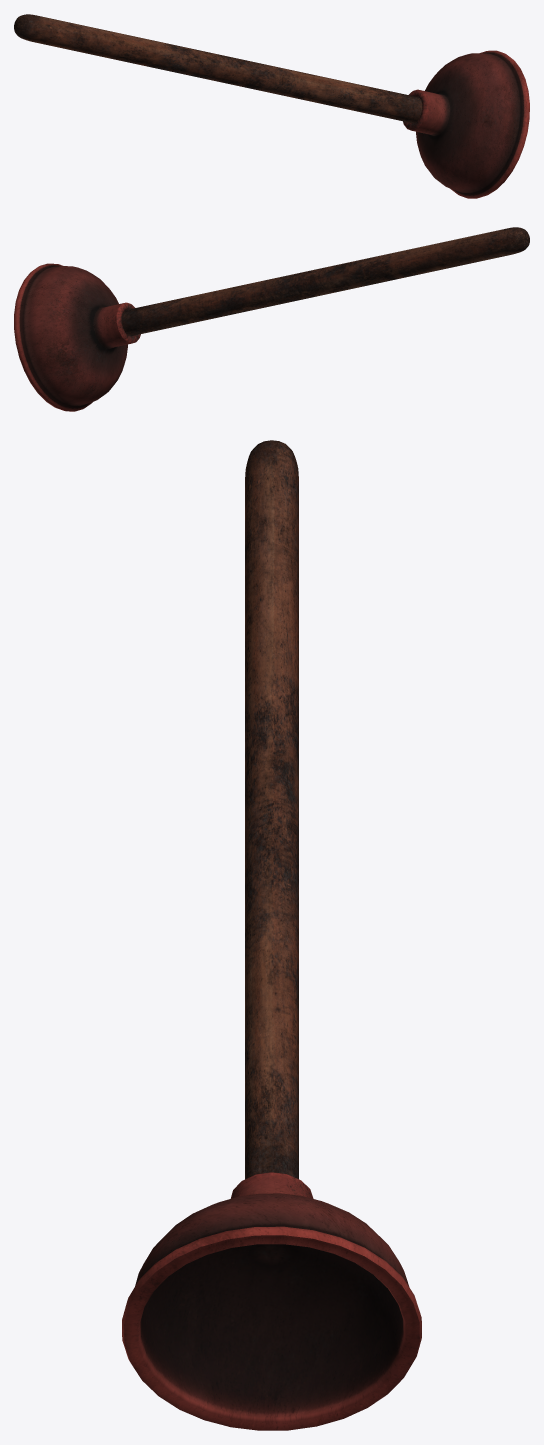
The model's file is plunger.gltf.
3 renders of one model, top to bottom at view 1: azimuth 30°, elevation 25°; view 2: azimuth 150°, elevation 25°; view 3: azimuth 270°, elevation 25°, orthographic. The views are drawn at different scales.
Visible parts, largest first — view 1: LowPoly; view 2: LowPoly; view 3: LowPoly.
Part boxes in pixels (x1,y1,x2,y2): LowPoly: [14, 14, 529, 198]; LowPoly: [14, 227, 529, 411]; LowPoly: [122, 440, 421, 1430].
Size of the model in its own units: 3.42 by 1.87 by 0.899.
Materials: 1 (1 with a texture image).
